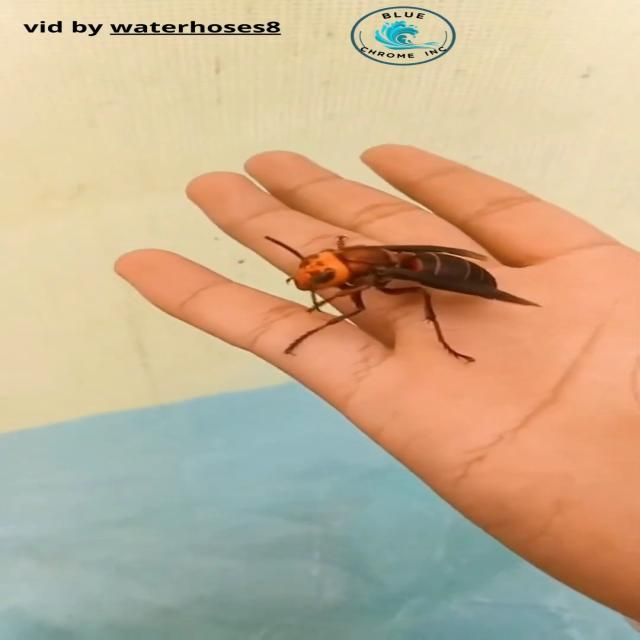Hornets: (264, 233, 545, 362)
